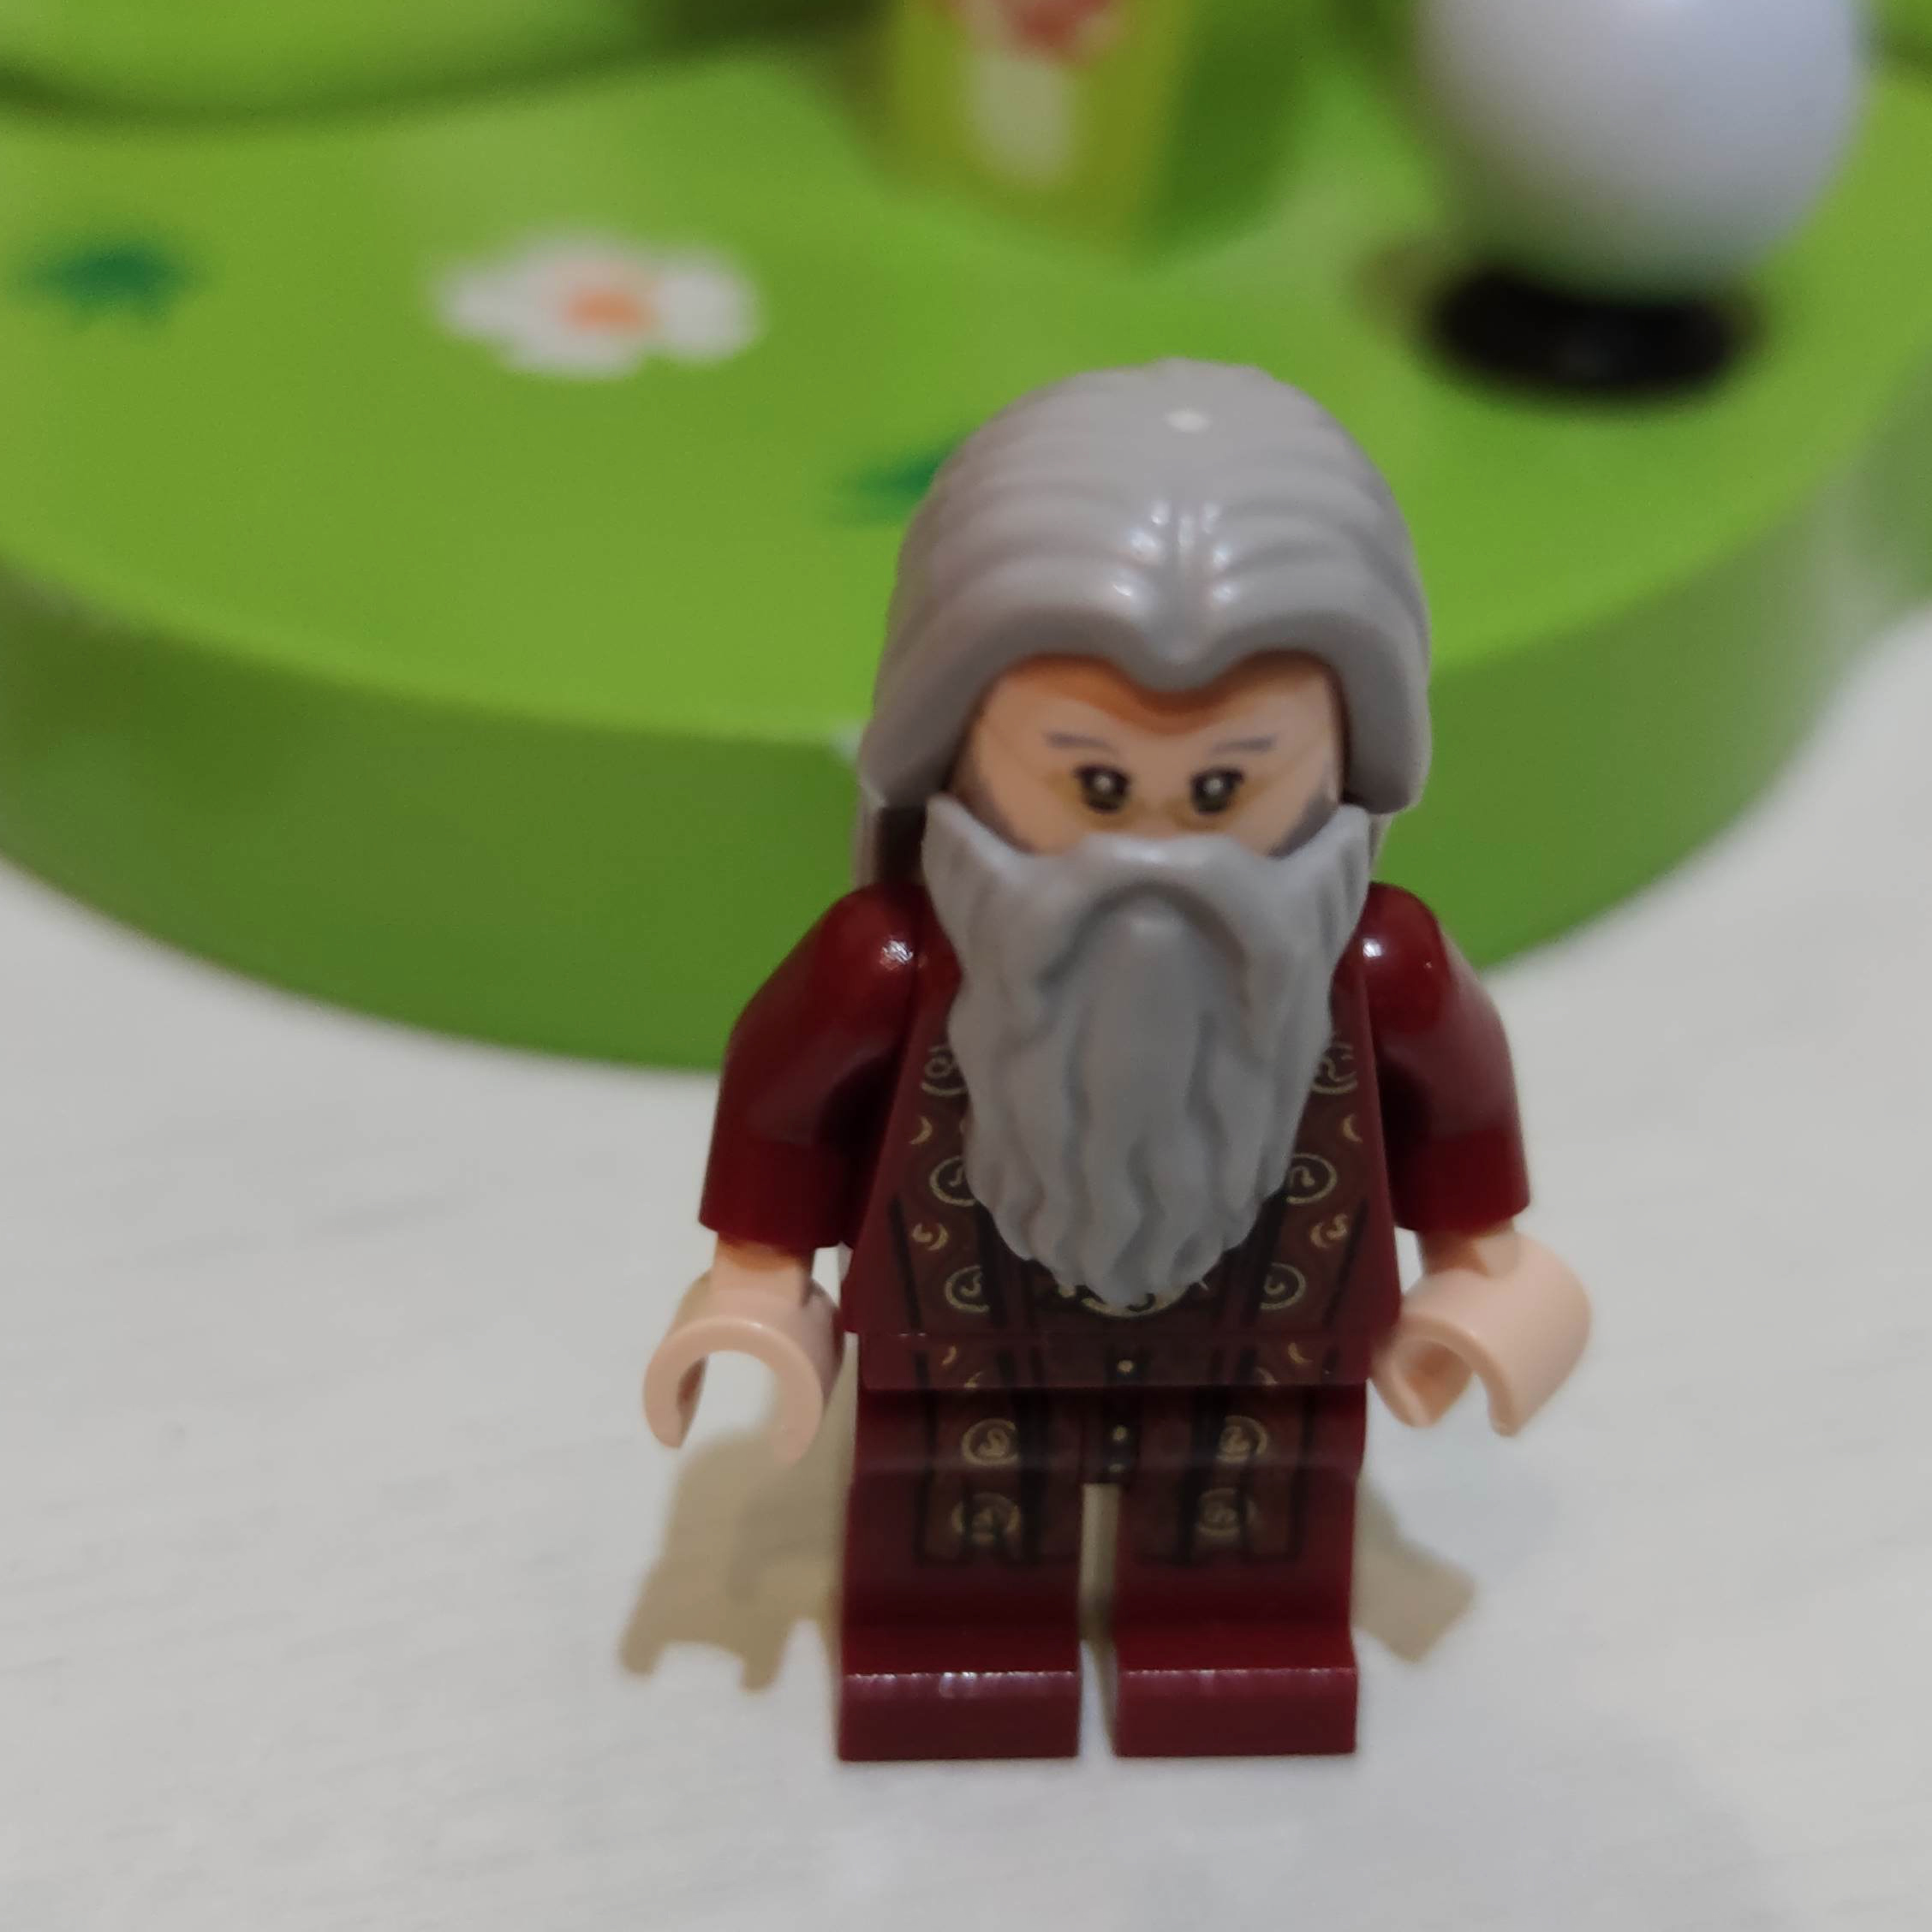lego: (644, 359, 1591, 1766)
